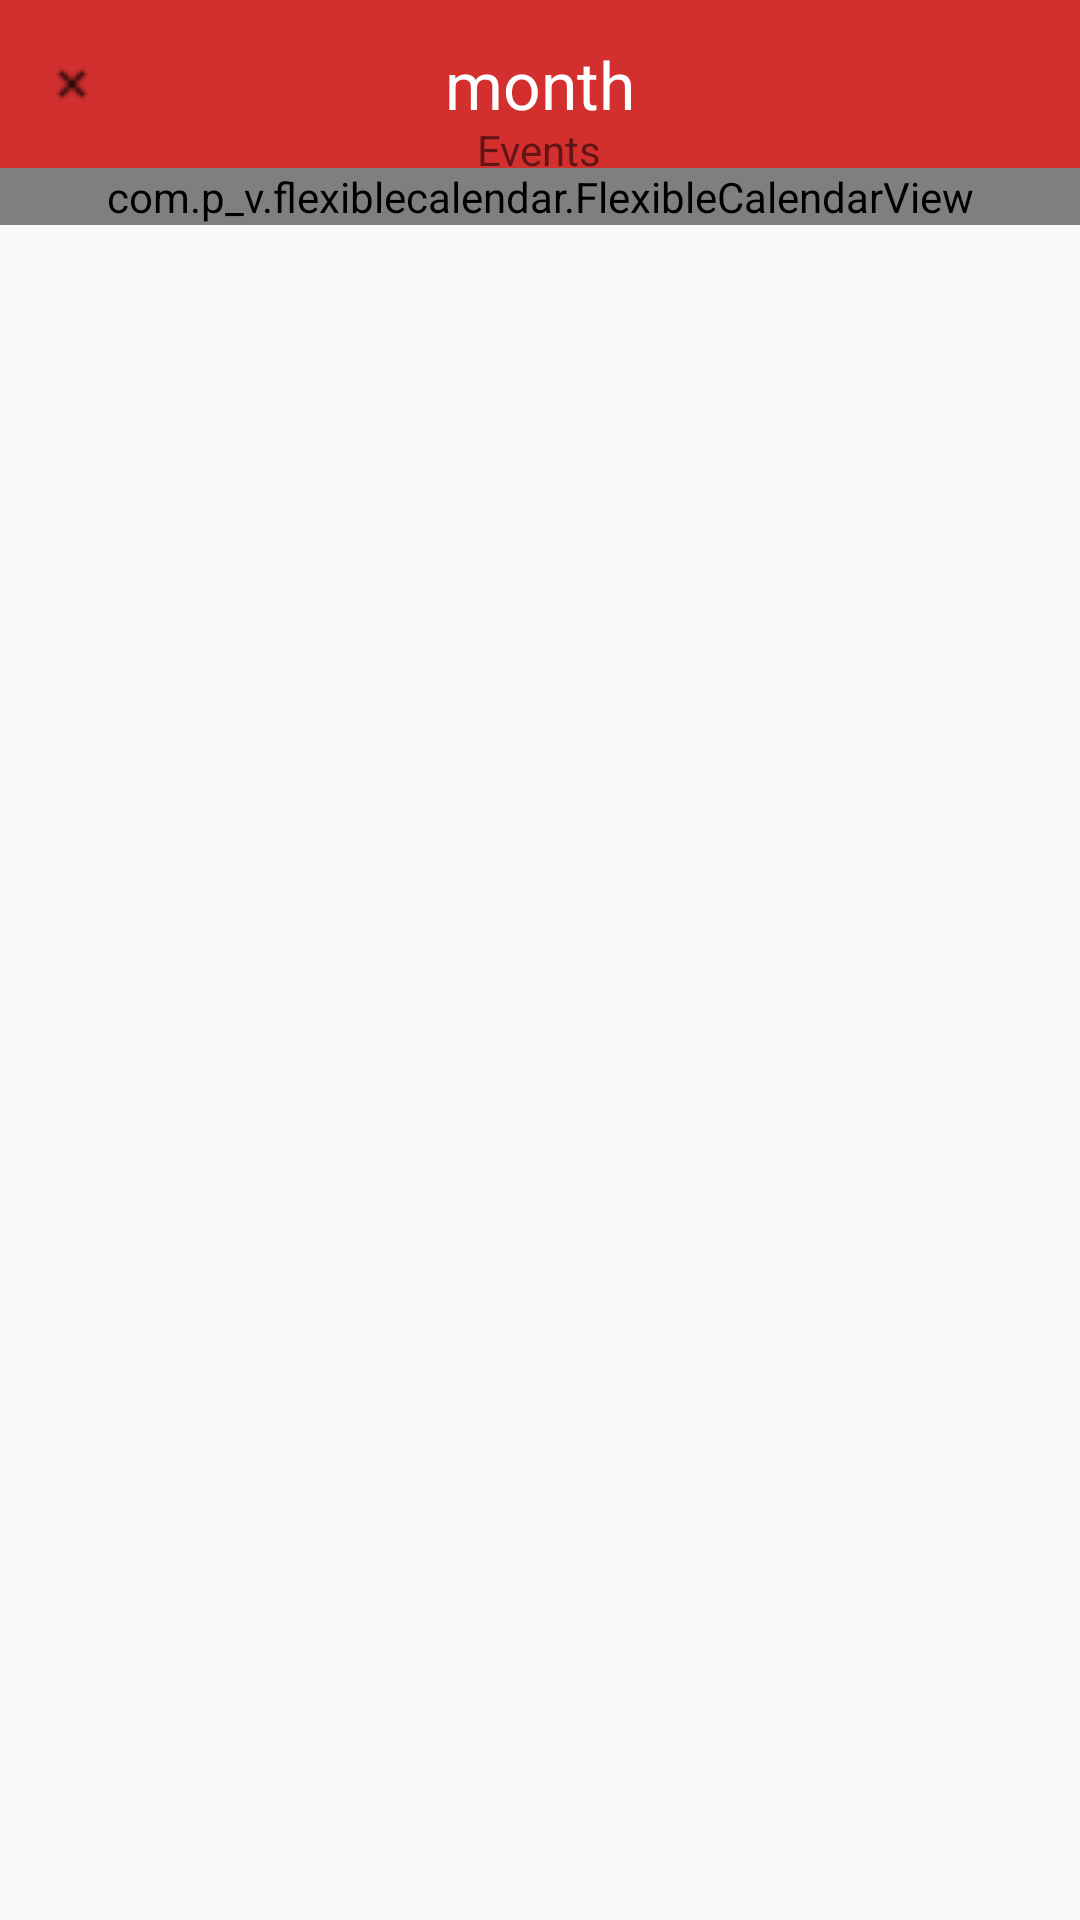

Where to tap for icons on this 1080w x 1920h app screen, as (x,y):
close: (72,84)
